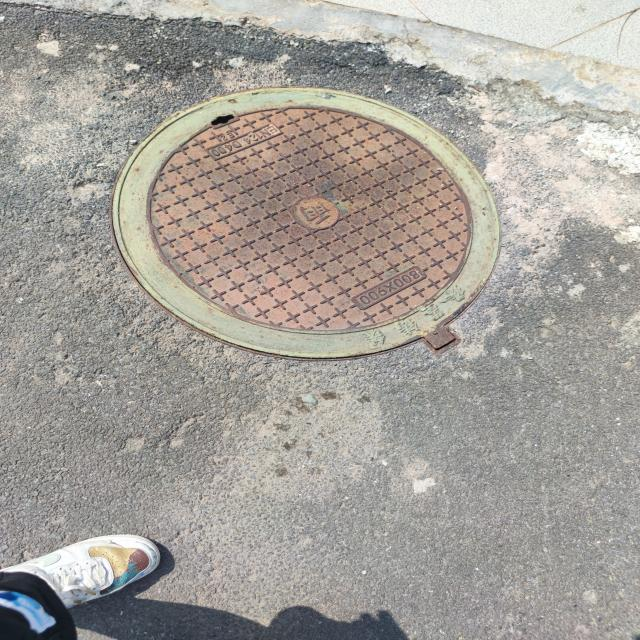Good: (104, 85, 505, 371)
